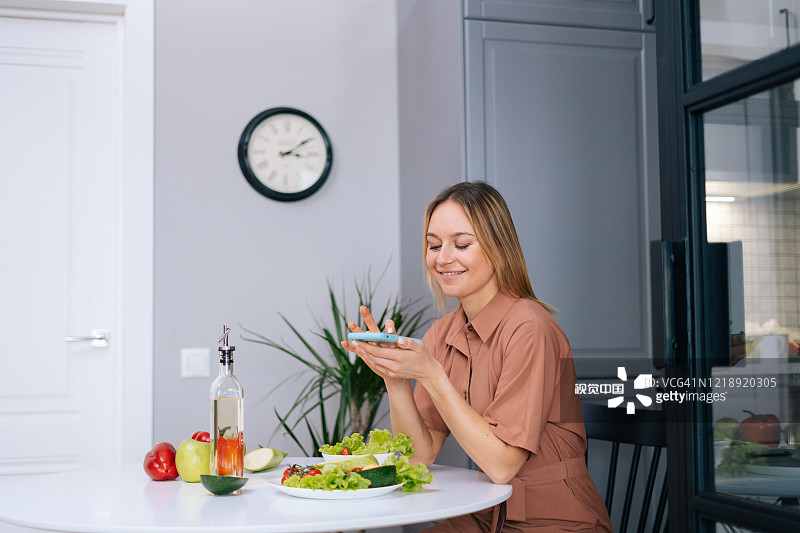taking photos: (332, 294, 447, 393)
